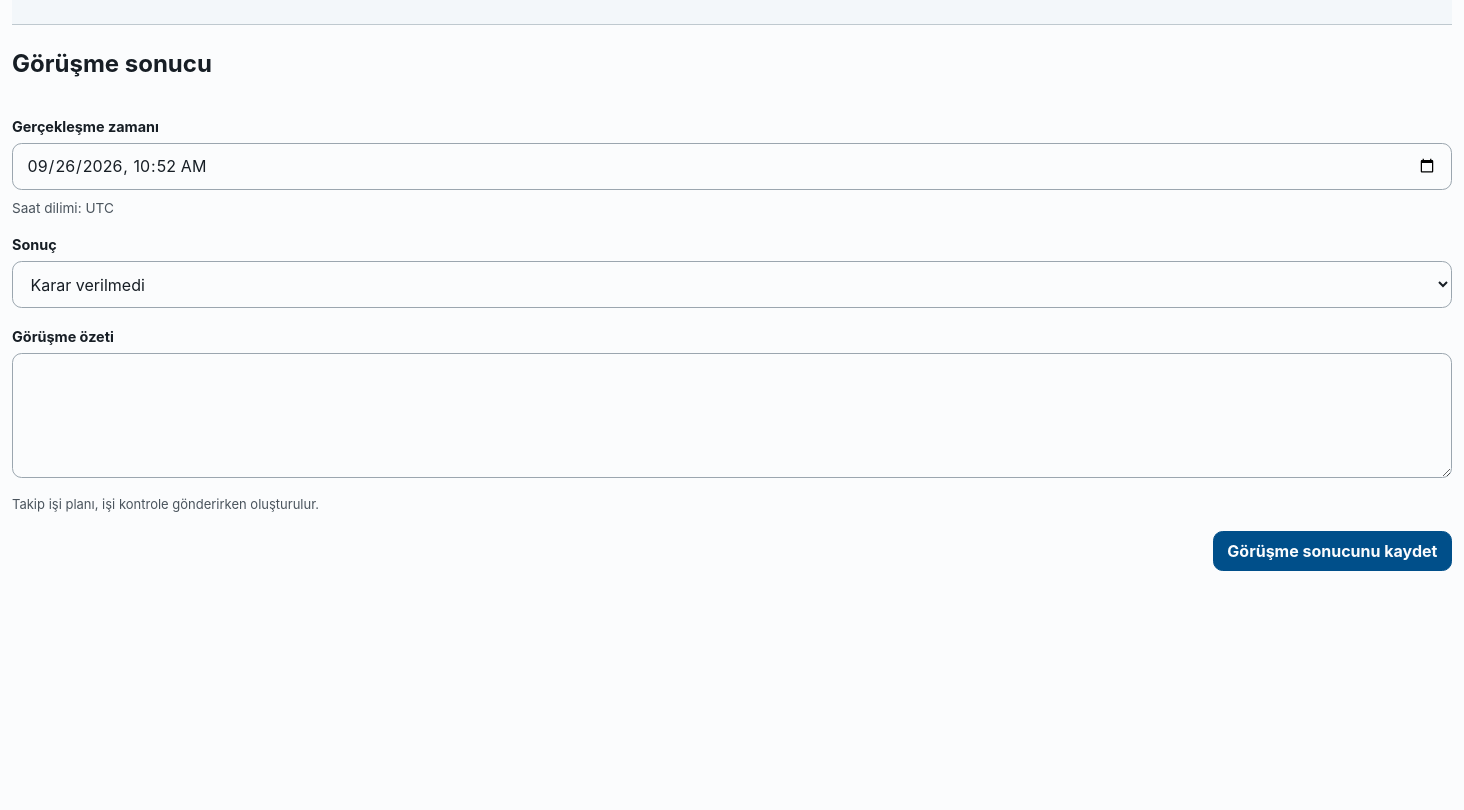
Test case: MeetingDetailsSection › shows the unsuccessful reason selector only for the follow-up-required outcome
Select "Karar verilmedi" in the dropdown with id "meeting-outcome": (732, 285) [12,261,1452,308]
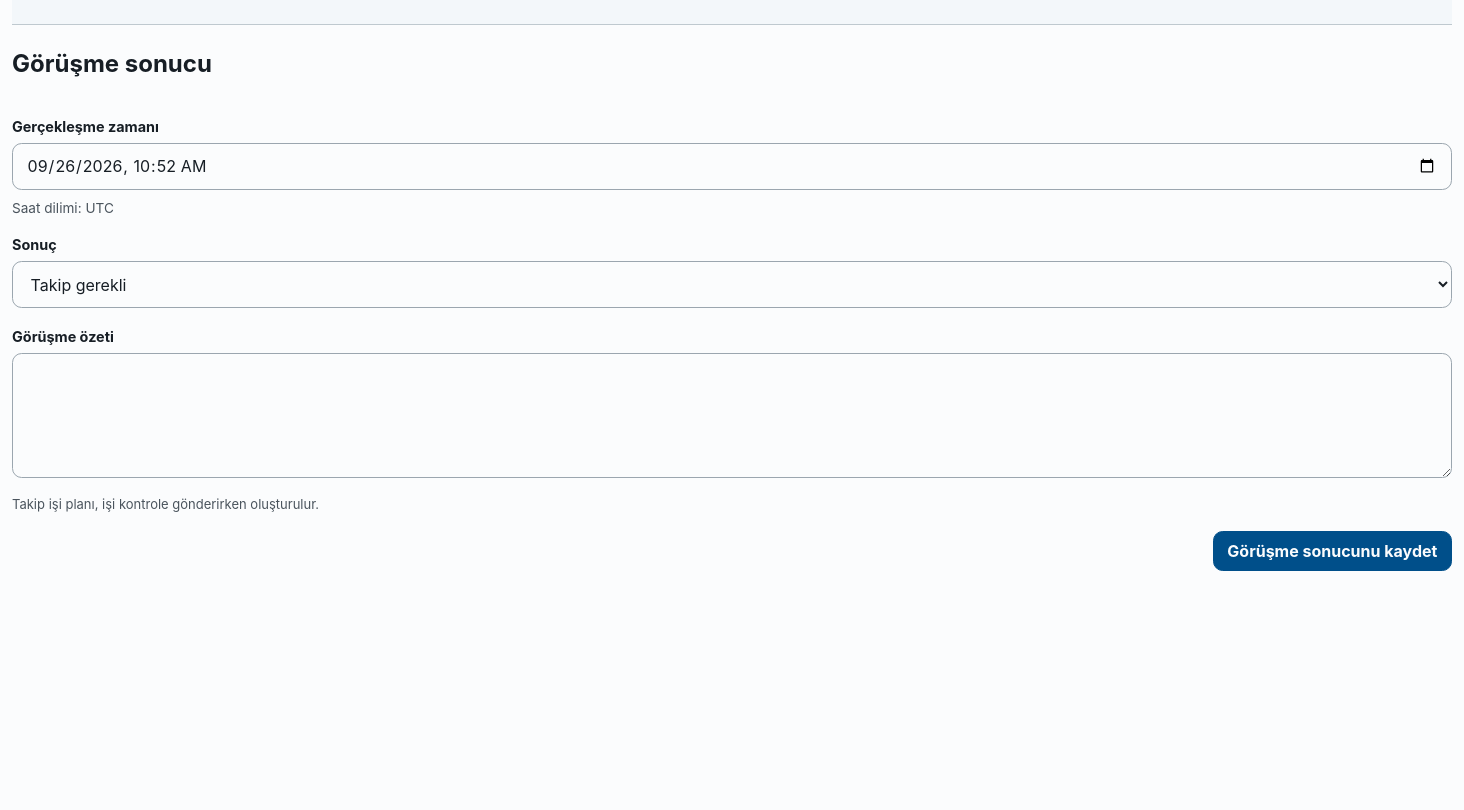
Select "Takip gerekli" in the dropdown with id "meeting-outcome": (732, 285) [12,261,1452,308]
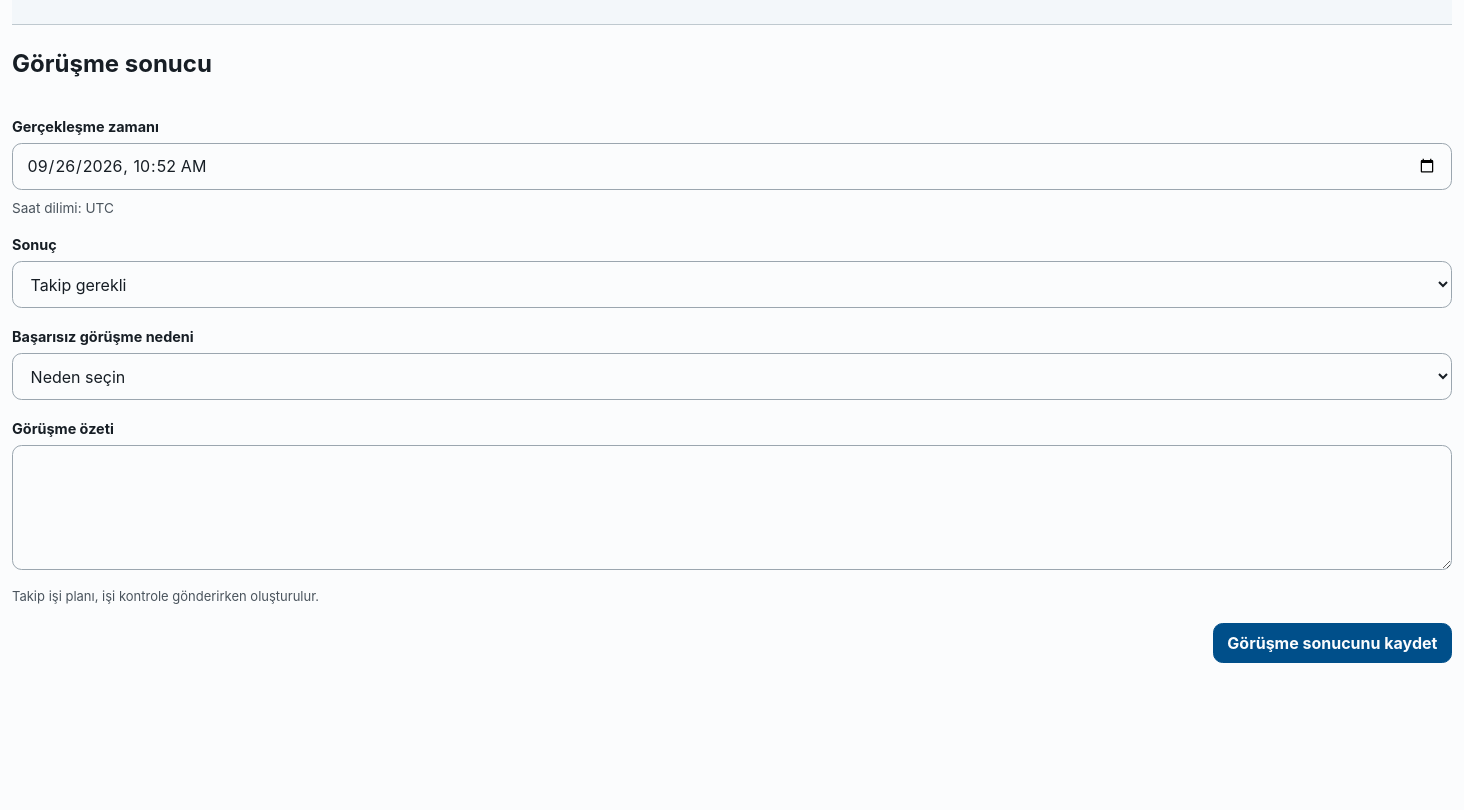
Result: the dropdown with id "meeting-unsuccessful-reason" is shown at [12,353,1452,400]
